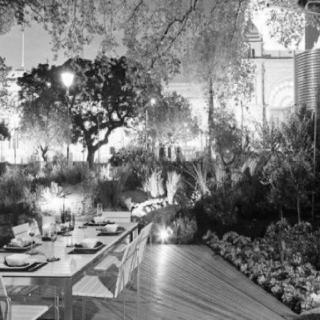other: (3, 84, 31, 168), (151, 220, 177, 247)
